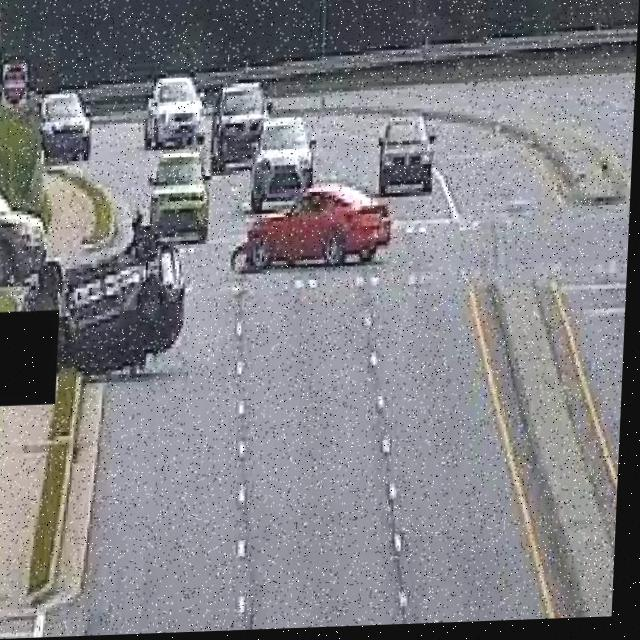multiple_accident: (42, 233, 207, 405), (227, 182, 402, 277)
normal: (142, 70, 339, 200), (375, 116, 445, 208)
